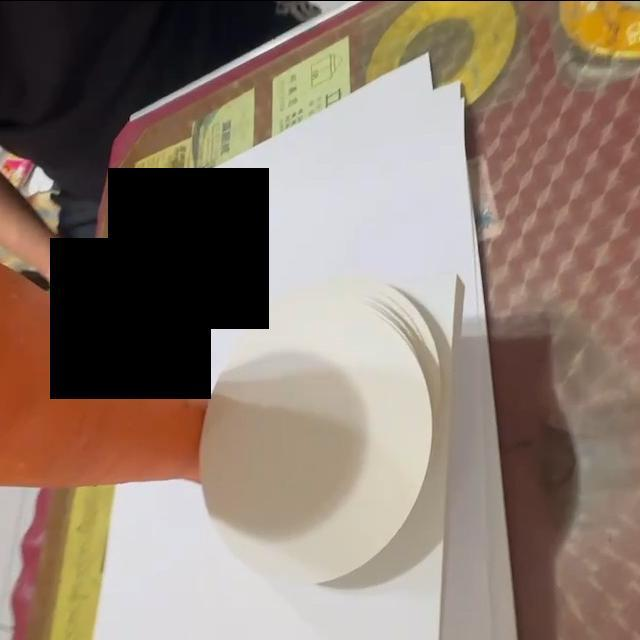carrot: (1, 239, 210, 488)
